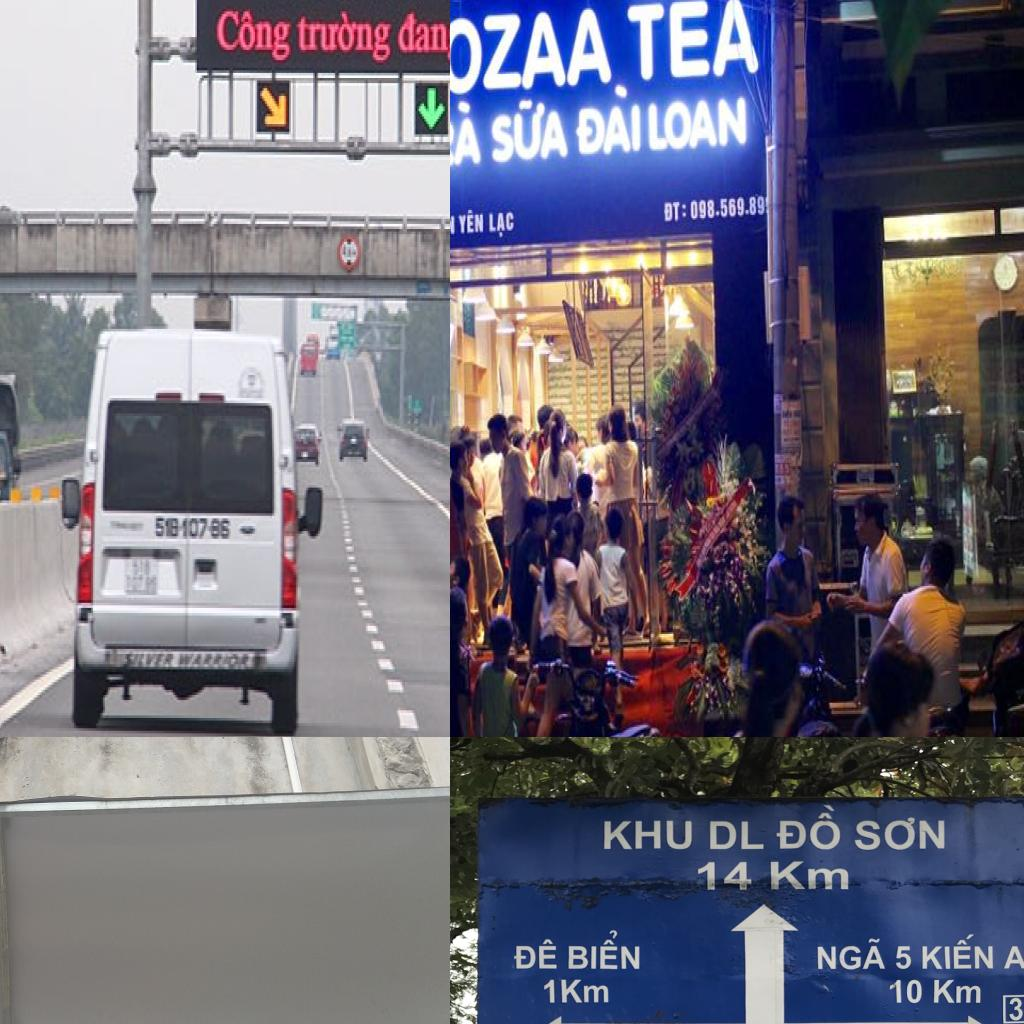text: (450, 0, 618, 104), (627, 0, 769, 85), (647, 93, 753, 156), (692, 858, 857, 896), (296, 6, 397, 66), (488, 93, 568, 162), (214, 6, 296, 68), (576, 84, 643, 157), (852, 814, 949, 854), (773, 804, 846, 856), (599, 816, 694, 852), (565, 930, 643, 972), (886, 976, 988, 1008), (396, 6, 450, 65), (919, 932, 996, 972), (811, 934, 887, 972), (152, 514, 234, 542), (450, 101, 482, 170), (542, 978, 615, 1008), (708, 817, 768, 852), (690, 194, 767, 221), (510, 936, 561, 972), (178, 649, 254, 672), (122, 649, 176, 669), (458, 205, 486, 237), (488, 212, 515, 238), (1002, 940, 1024, 971), (893, 942, 916, 971), (662, 200, 688, 224), (1003, 995, 1024, 1021), (450, 203, 457, 238)
